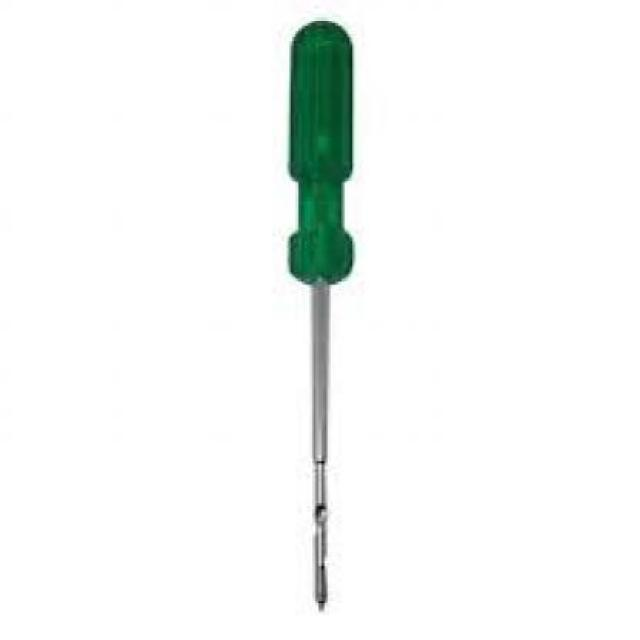screwdriver: (288, 22, 356, 608)
